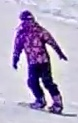snowboarder: (12, 10, 78, 117)
